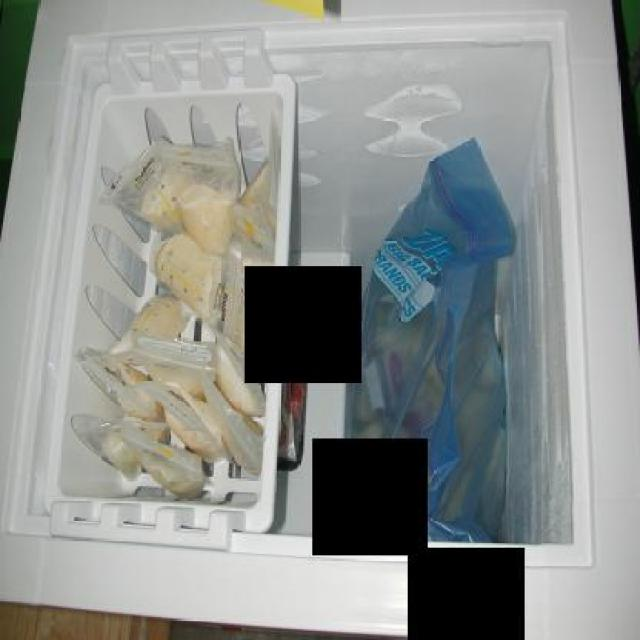plastic bag: (349, 134, 525, 546), (150, 137, 242, 257), (97, 142, 188, 236), (131, 377, 226, 465), (120, 416, 212, 504), (148, 229, 225, 331), (202, 366, 268, 482), (72, 346, 162, 420), (100, 291, 195, 360), (134, 332, 221, 402), (71, 414, 146, 486), (240, 111, 280, 238), (214, 328, 272, 415), (234, 206, 280, 266), (238, 278, 271, 354)
